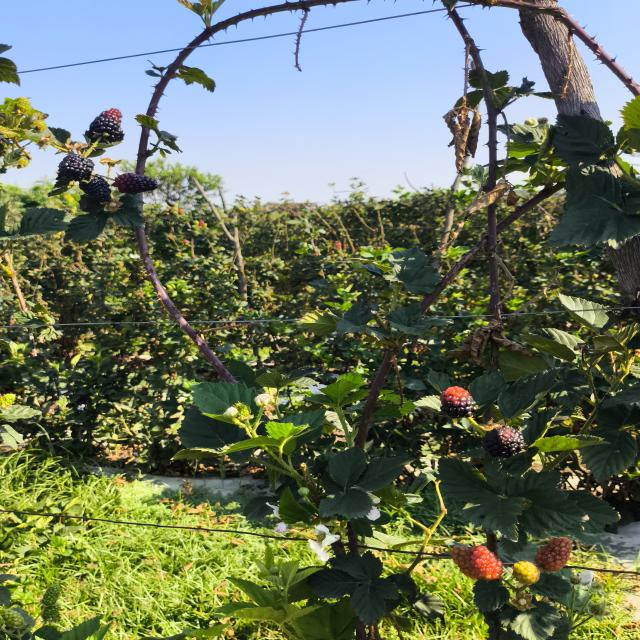maduro: (58, 154, 94, 181), (114, 173, 158, 194), (80, 175, 111, 202)
marron: (482, 427, 525, 458), (85, 108, 124, 142), (440, 387, 478, 418)
naranja: (451, 545, 502, 580), (535, 537, 571, 572)
verde: (513, 561, 540, 585)
